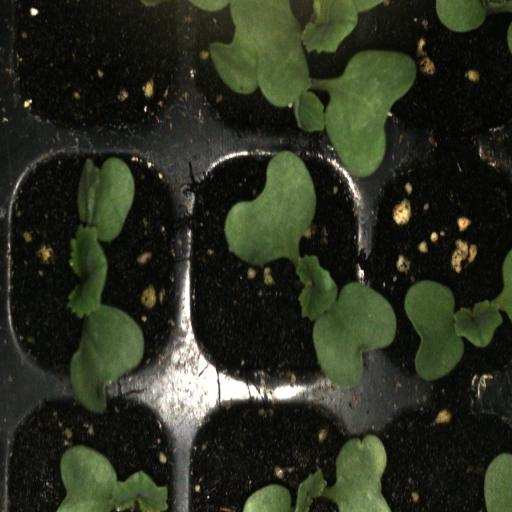noseedling: (8, 0, 184, 146)
seedling: (185, 147, 370, 389), (5, 144, 181, 391), (370, 148, 512, 390)
twoseedling: (187, 0, 373, 147)
